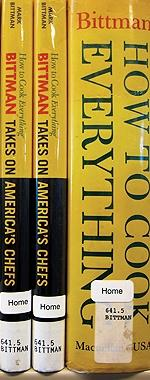call_number: (94, 303, 132, 362), (32, 320, 66, 372), (0, 320, 30, 372)
